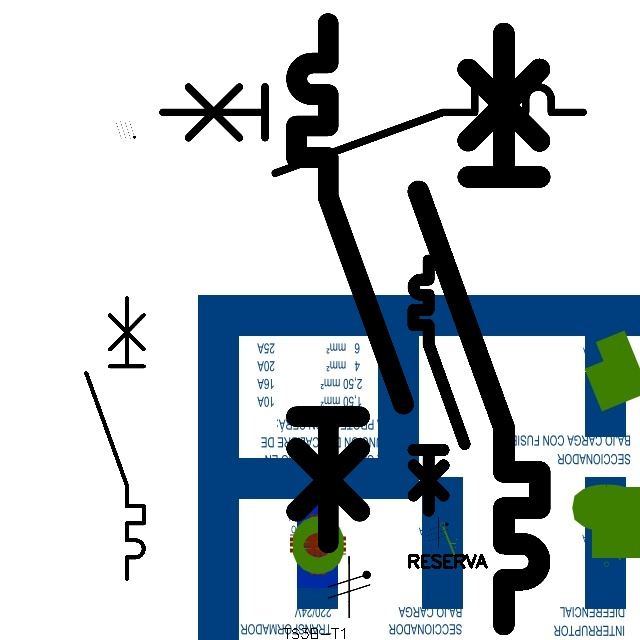interruptor_termomagnetico: (403, 18, 555, 640), (283, 10, 416, 556), (152, 76, 594, 184), (79, 291, 151, 586), (407, 254, 471, 517)
